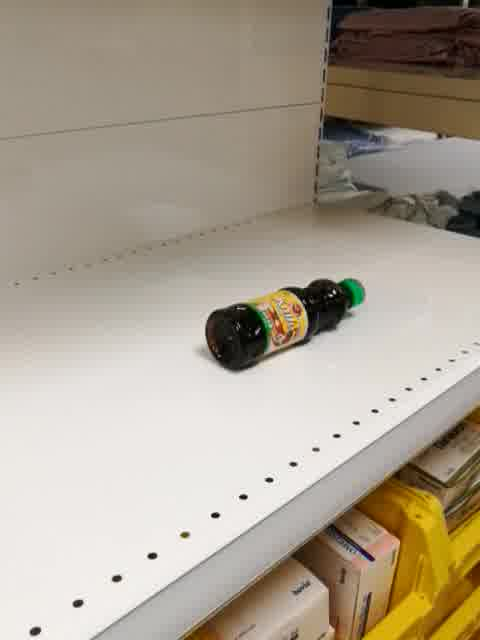cookingoil: (203, 277, 368, 372)
